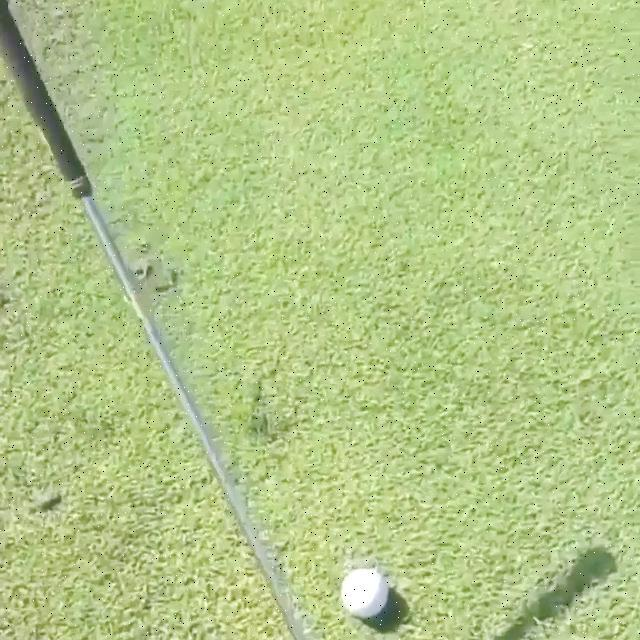golf ball: (338, 560, 387, 620)
golf club-handle: (0, 5, 298, 640)
